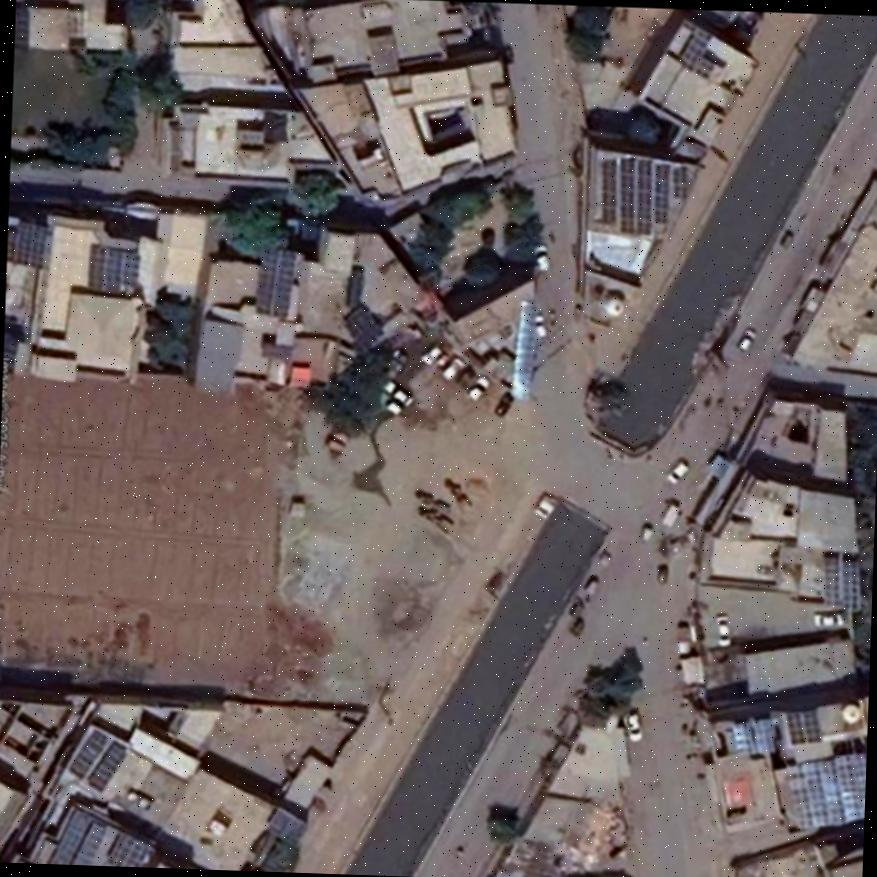Solarpanel: (793, 752, 866, 829), (47, 808, 103, 864), (255, 252, 297, 318), (89, 246, 140, 296), (677, 28, 726, 78), (825, 555, 861, 613), (7, 219, 48, 269), (88, 742, 127, 791), (68, 729, 105, 777), (105, 832, 149, 866), (733, 718, 773, 754), (787, 708, 821, 744), (620, 160, 634, 230), (638, 157, 650, 233), (602, 161, 616, 226), (655, 163, 668, 222), (673, 168, 686, 198)
